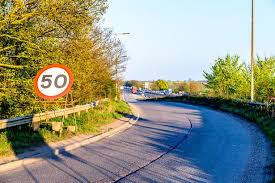Speed_limit_50km: (34, 64, 73, 100)
